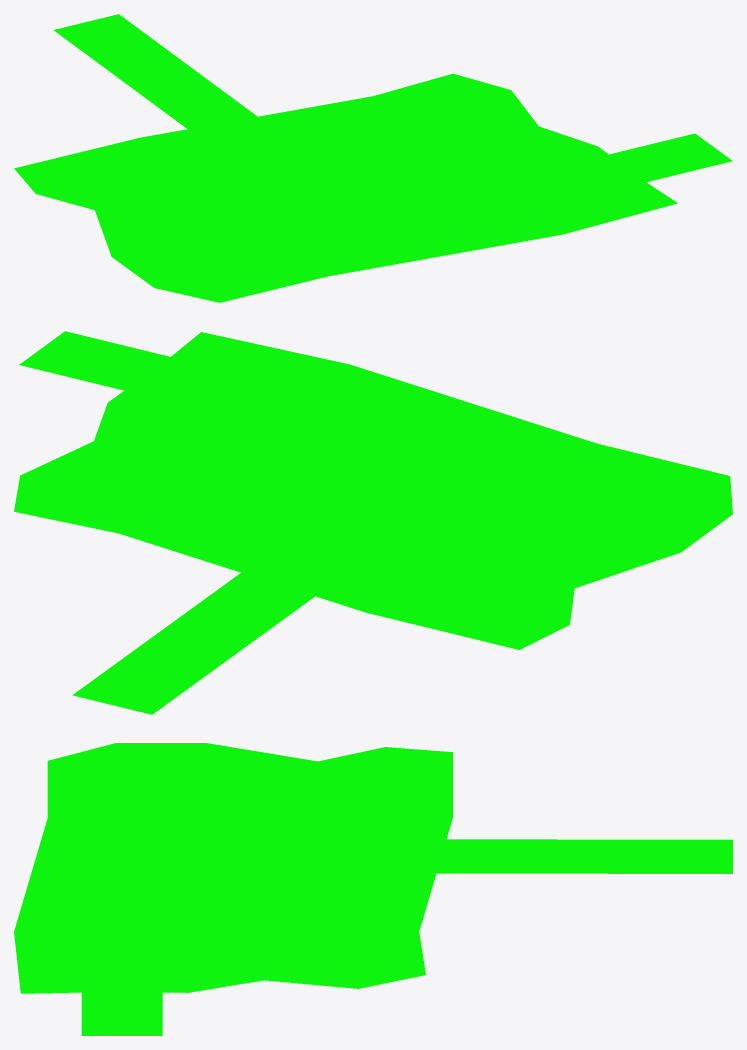
File: s05b_lb1-floor.glb
3 views of the same model, one above another, from view 1: azimuth 30°, elevation 25°; view 2: azimuth 150°, elevation 25°; view 3: azimuth 270°, elevation 25° (orthographic). The views are drawn at different scales.
Visible parts, largest first — view 1: collision_floor-colonly; view 2: collision_floor-colonly; view 3: collision_floor-colonly.
Boxes of the visible parts, x1,y1,x2,y2 form: collision_floor-colonly: [14, 14, 732, 302]; collision_floor-colonly: [14, 331, 732, 714]; collision_floor-colonly: [14, 743, 732, 1035].
Size of the model in its own units: 51.53 by 0.1016 by 53.22.
